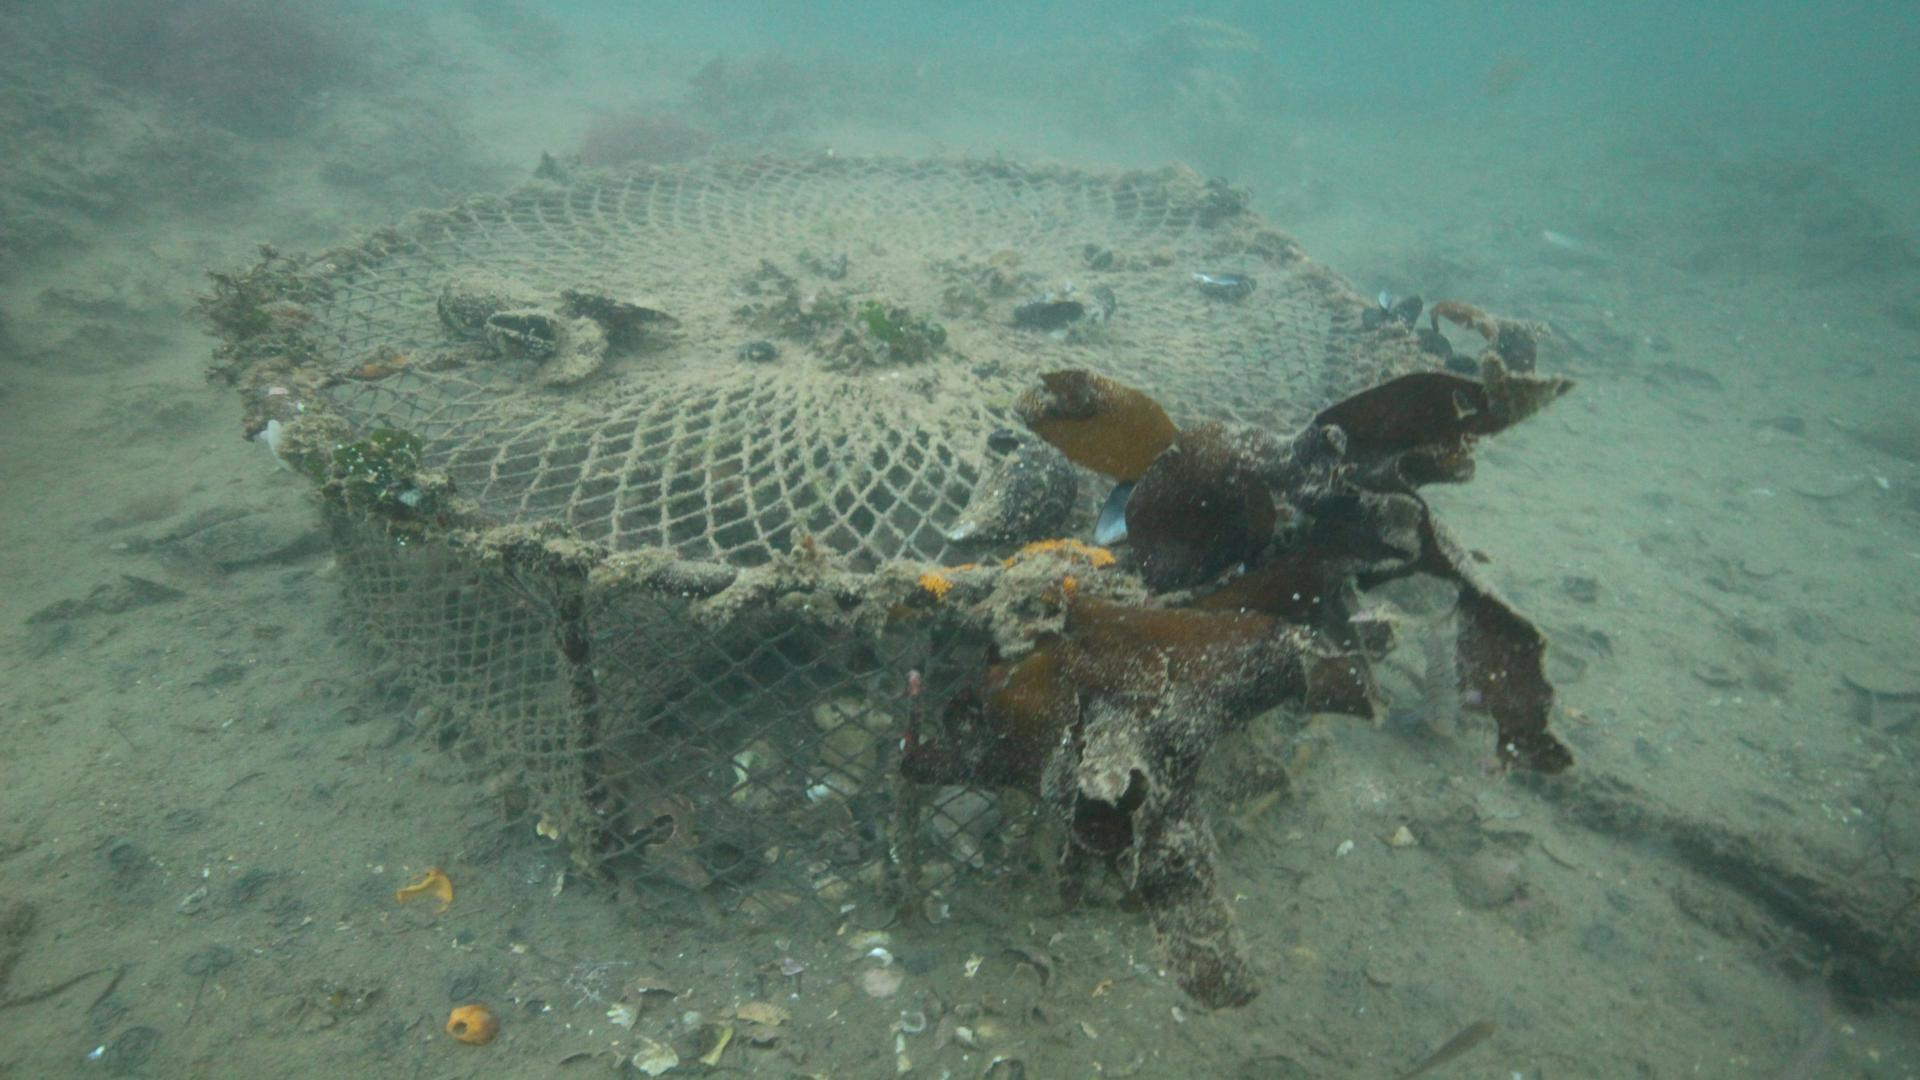circular fish trap: (237, 149, 1357, 934)
